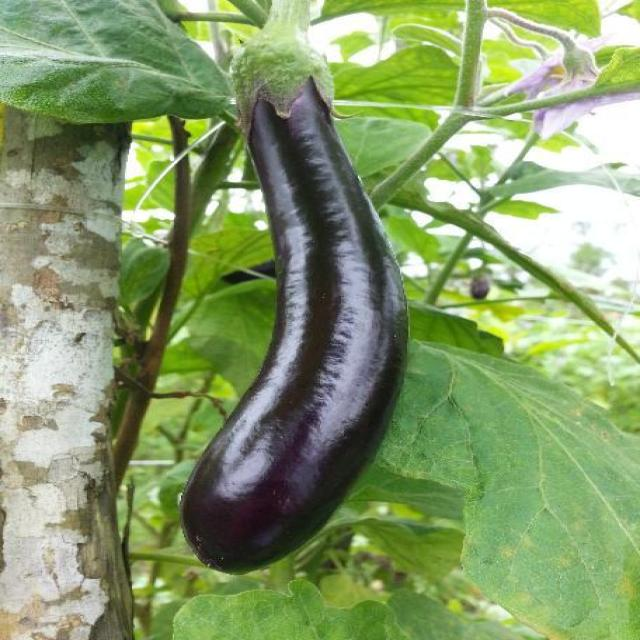eggplant: (182, 31, 413, 572)
